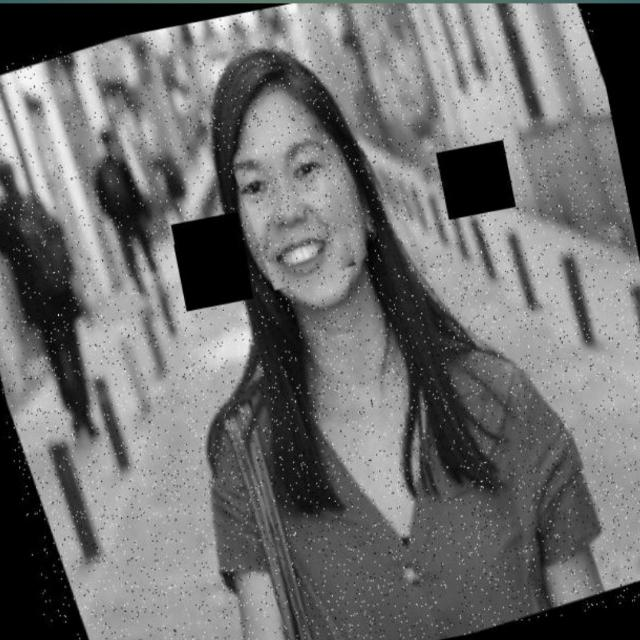Happy: (224, 87, 371, 320)
